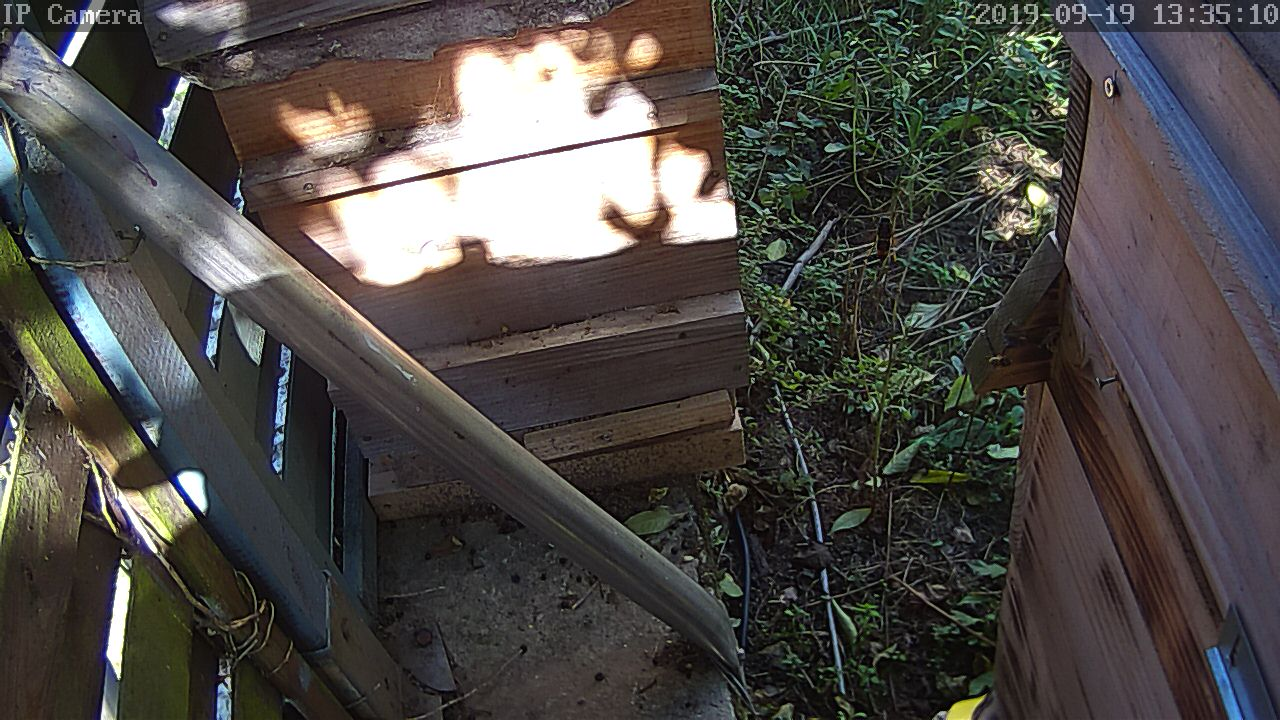bee: (988, 349, 1016, 376)
hornet: (868, 213, 902, 265)
